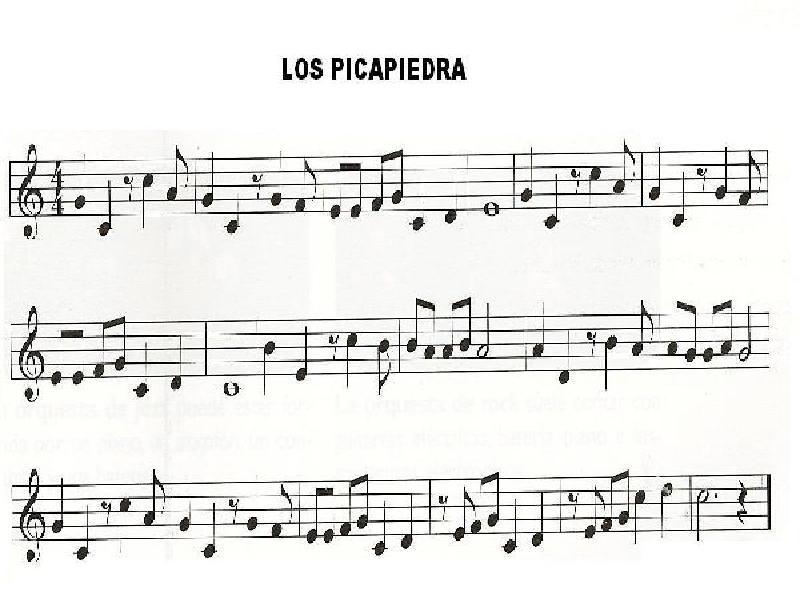B: (738, 307, 756, 363), (696, 487, 708, 545)
C: (162, 145, 190, 201), (140, 468, 167, 525), (631, 301, 655, 359), (580, 484, 605, 539), (368, 149, 389, 211), (372, 336, 395, 391), (328, 158, 347, 223), (295, 159, 317, 215), (738, 153, 762, 204), (453, 485, 475, 540), (112, 314, 131, 375), (486, 469, 504, 530), (404, 294, 422, 354), (390, 143, 407, 206), (686, 296, 700, 365), (349, 161, 365, 220), (357, 475, 372, 534), (339, 482, 354, 537)
CS: (17, 302, 47, 406), (16, 144, 44, 243), (21, 472, 47, 566)
N: (95, 181, 116, 239), (259, 337, 279, 397), (543, 170, 563, 230), (200, 505, 221, 558), (397, 494, 417, 549), (671, 176, 692, 228), (602, 335, 619, 398), (295, 328, 314, 384), (136, 339, 152, 404), (518, 147, 536, 204), (632, 487, 649, 547), (531, 297, 547, 359), (76, 508, 93, 565), (202, 149, 217, 211), (138, 173, 154, 230), (51, 477, 66, 537), (660, 479, 675, 539), (602, 475, 616, 534), (649, 143, 662, 201), (374, 504, 388, 557), (347, 329, 360, 385)
R: (219, 374, 243, 407), (483, 197, 502, 220)
